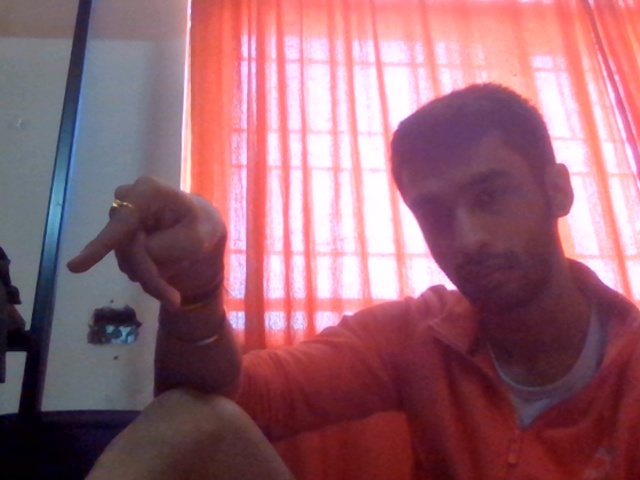P: (60, 135, 279, 346)
